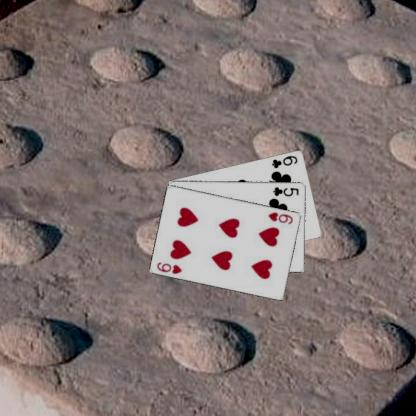5C: (271, 184, 300, 197)
6C: (269, 153, 299, 169)
6H: (266, 209, 294, 225), (155, 259, 183, 275)
